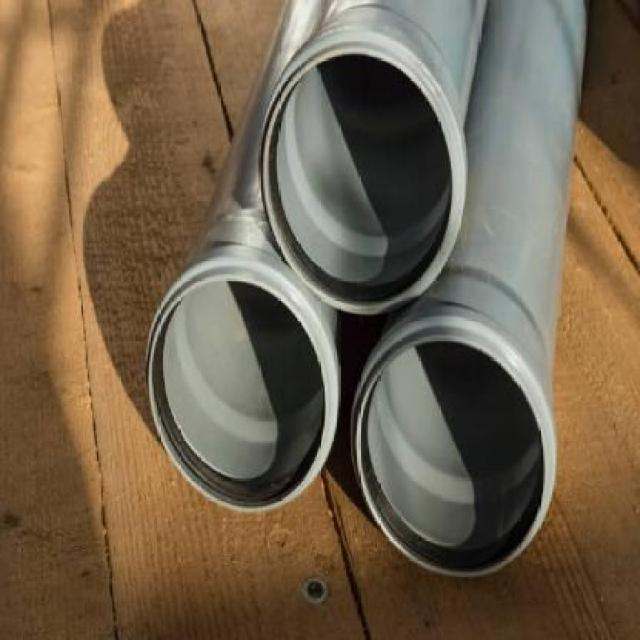pipe: (260, 37, 464, 316), (351, 317, 554, 577), (145, 260, 334, 512)
